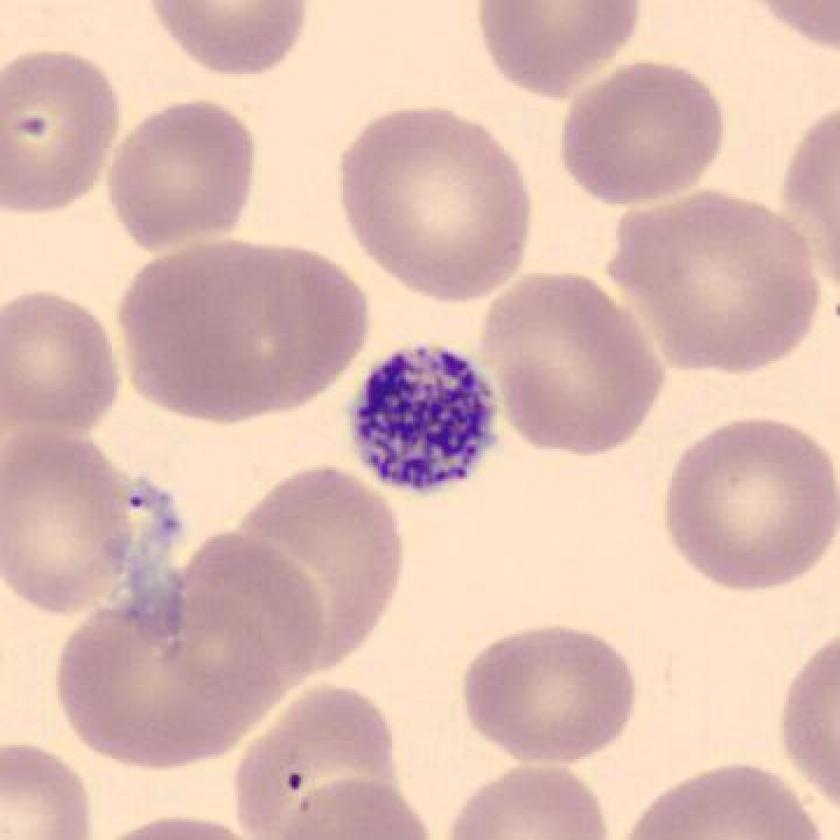platelets: (335, 337, 514, 508)
